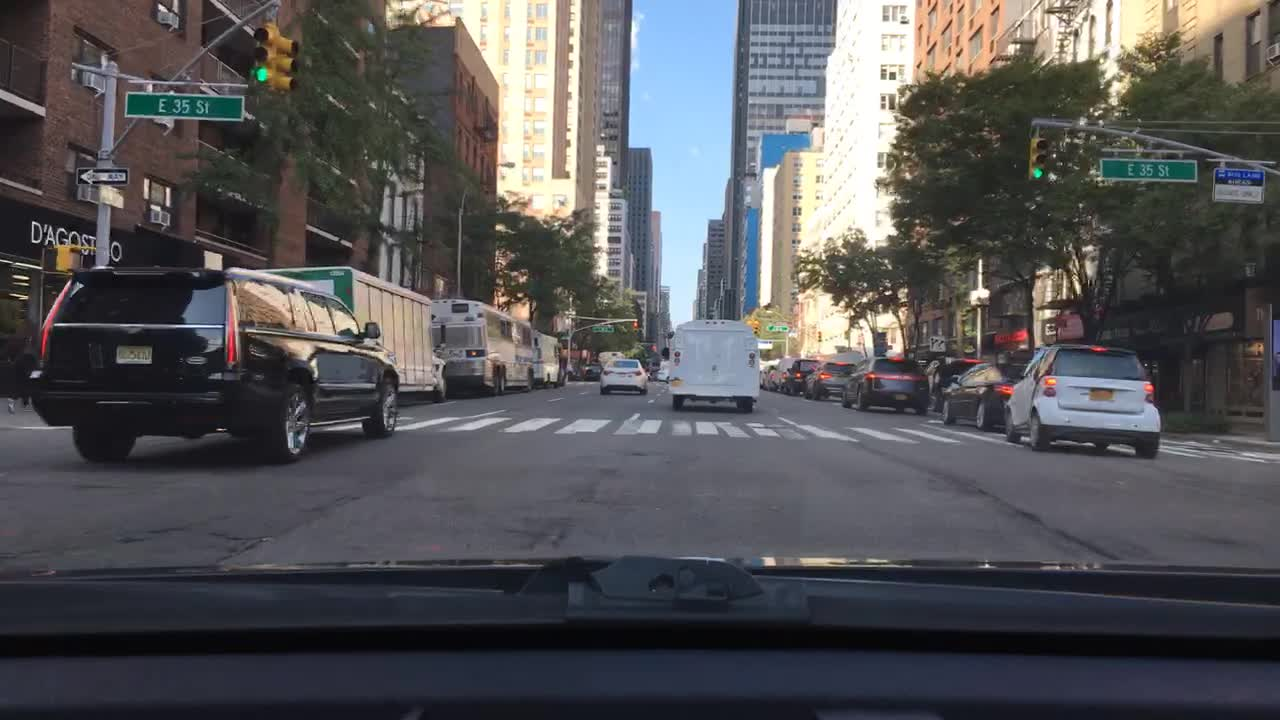bus: (430, 299, 534, 395)
car: (26, 262, 400, 461), (1004, 339, 1162, 455), (661, 317, 762, 413), (842, 352, 931, 415), (942, 361, 1025, 428), (924, 355, 975, 412), (804, 361, 861, 402), (599, 357, 650, 395), (780, 358, 817, 396), (763, 358, 789, 390), (657, 345, 671, 381), (581, 360, 604, 379), (566, 355, 579, 379)
traffic light: (249, 26, 276, 85), (277, 33, 302, 90), (1027, 136, 1051, 183), (54, 243, 86, 273), (632, 312, 641, 333), (751, 314, 760, 335)
traffic sign: (121, 90, 246, 121), (1095, 159, 1199, 182), (1211, 165, 1267, 202), (77, 167, 127, 185), (1056, 312, 1086, 336), (588, 321, 615, 333), (761, 323, 792, 333)
truck: (263, 269, 448, 400), (535, 333, 568, 386)
